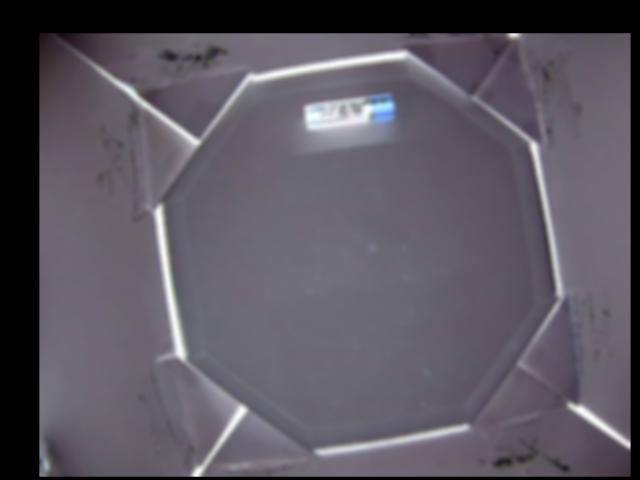Battery: (304, 92, 395, 129)
